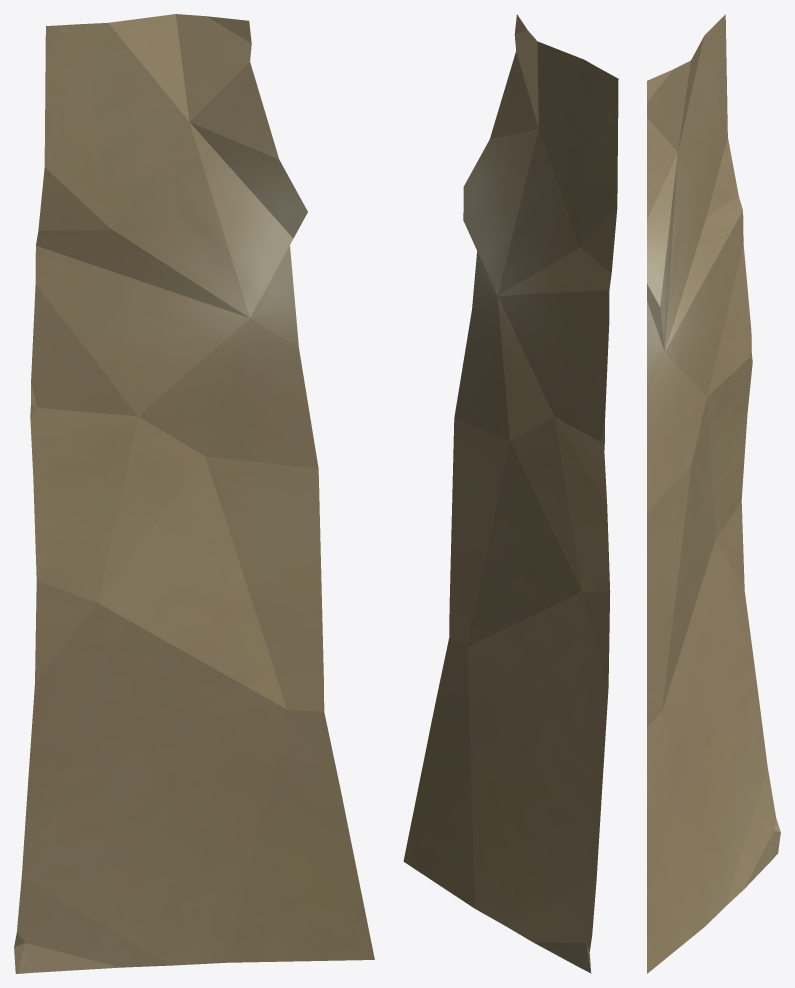
3 renders of one model, left to right at view 1: azimuth 30°, elevation 25°; view 2: azimuth 150°, elevation 25°; view 3: azimuth 270°, elevation 25°, orthographic. The views are drawn at different scales.
Size of the model in its own units: 0.2563 by 0.8374 by 0.1209.
Materials: 1 (1 with a texture image).
